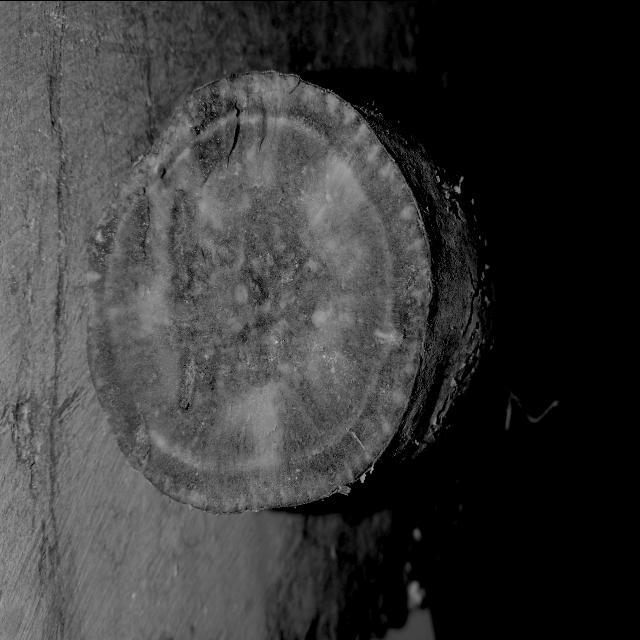Sick Sweet Potato_Tuber Rot: (86, 72, 430, 512)
